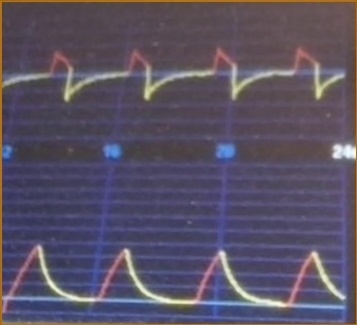Normal Flow: (3, 35, 345, 117)
Normal Volume: (4, 239, 343, 317)
